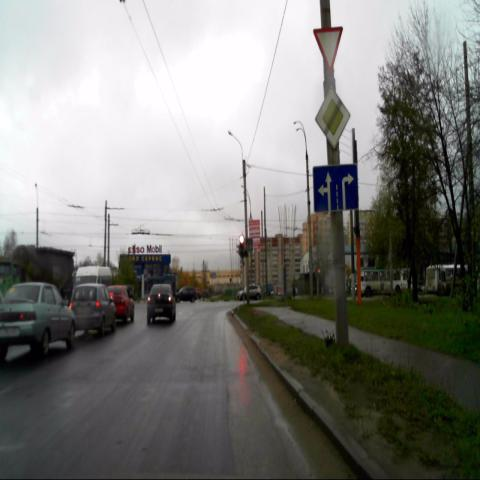2_2: (314, 86, 351, 149)
2_4: (312, 26, 344, 73)
5_15_2_2: (313, 164, 358, 211)
